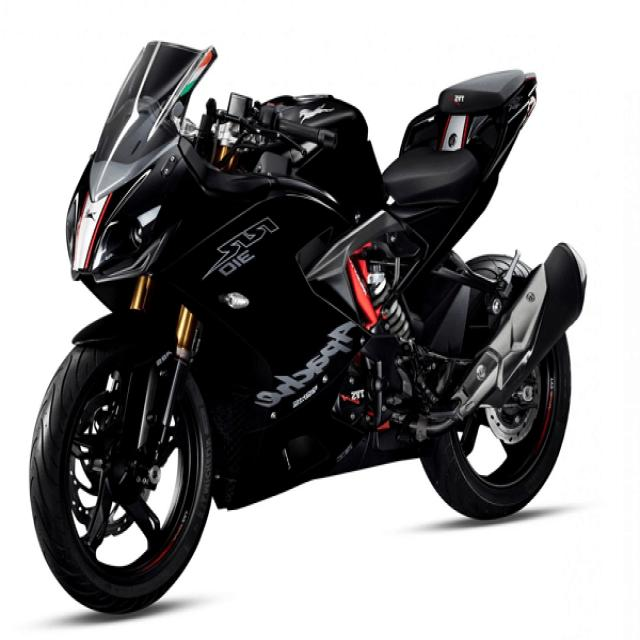motorcycle: (30, 41, 585, 613)
